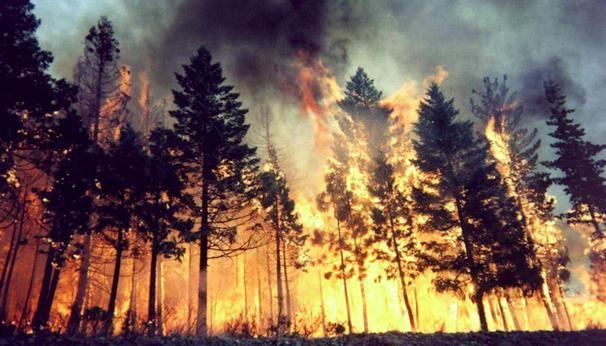fire: (208, 264, 265, 318), (414, 289, 471, 329), (365, 285, 405, 334), (565, 300, 604, 331)
smoke: (187, 5, 322, 52)
